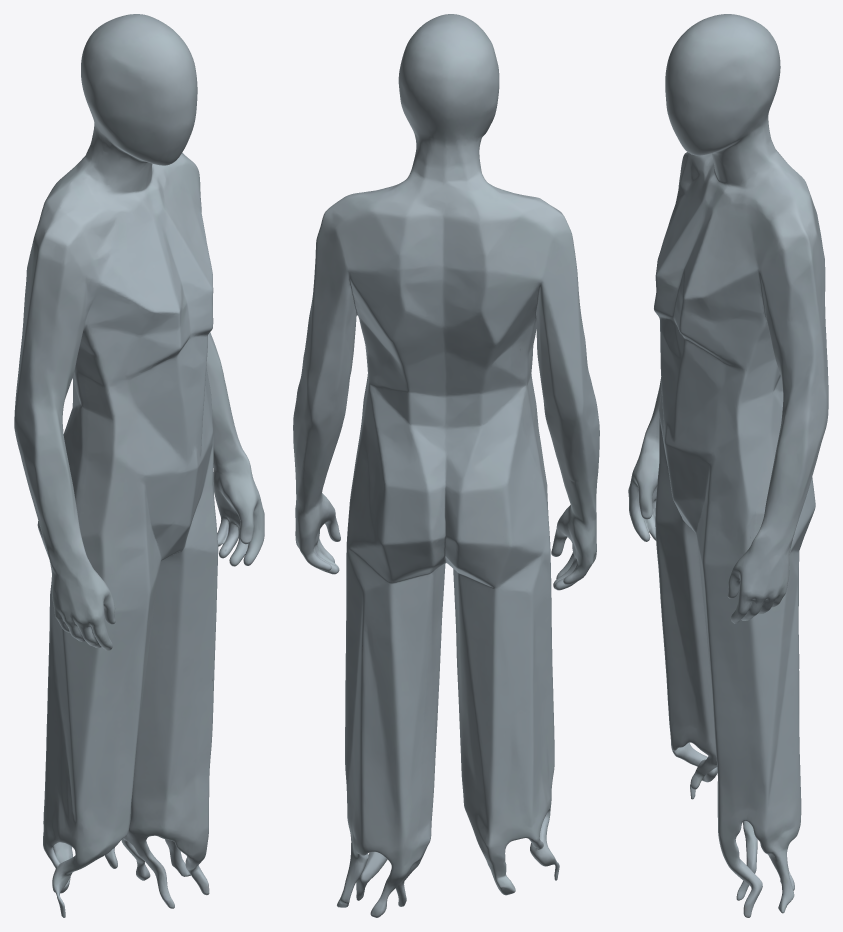
Rendered from spectral-humanoid-v1.glb.
The picture shows the model from 3 angles, left to right: view 1: azimuth 30°, elevation 25°; view 2: azimuth 150°, elevation 25°; view 3: azimuth 270°, elevation 25°; orthographic projection. The views are drawn at different scales.
Visible parts, largest first — view 1: tripo_node_0af05c5d-1ff3-41a8-ad2f-9a23a54f1715; view 2: tripo_node_0af05c5d-1ff3-41a8-ad2f-9a23a54f1715; view 3: tripo_node_0af05c5d-1ff3-41a8-ad2f-9a23a54f1715.
Part boxes in pixels (x1=…): tripo_node_0af05c5d-1ff3-41a8-ad2f-9a23a54f1715: x1=14, y1=14, x2=264, y2=917; tripo_node_0af05c5d-1ff3-41a8-ad2f-9a23a54f1715: x1=293, y1=14, x2=599, y2=917; tripo_node_0af05c5d-1ff3-41a8-ad2f-9a23a54f1715: x1=628, y1=14, x2=828, y2=917.
Bounding box in the file's own units: 0.3098 × 1 × 0.2104.
Materials: 1 (1 with a texture image).
